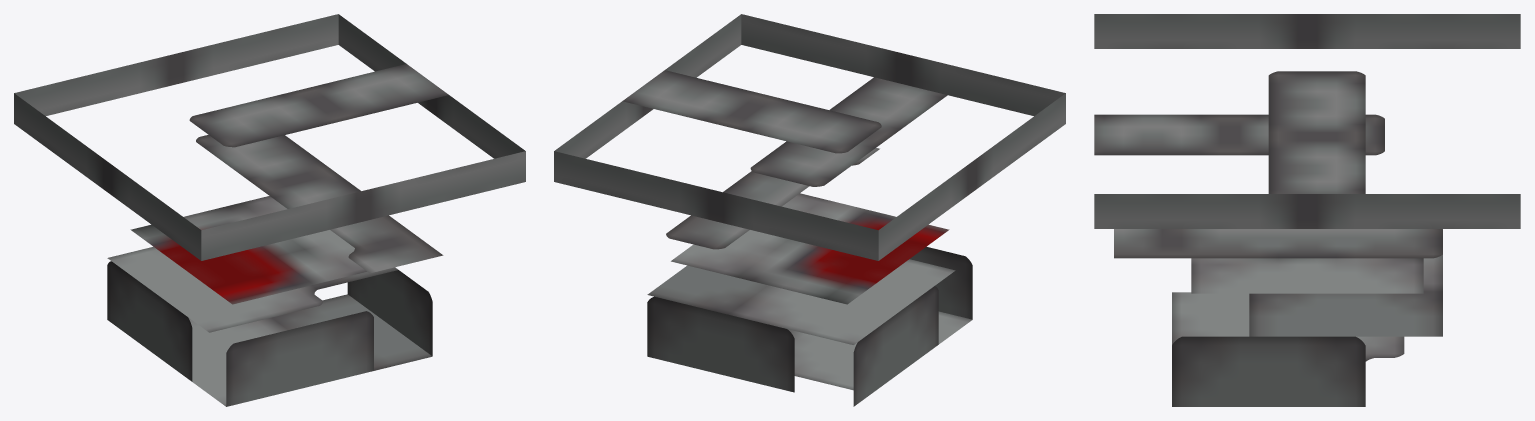
The model's file is tier_1_rocket_bottom.obj.
The picture shows the model from 3 angles, left to right: view 1: azimuth 30°, elevation 25°; view 2: azimuth 150°, elevation 25°; view 3: azimuth 270°, elevation 25°; orthographic projection. The views are drawn at different scales.
Parts seen in each view (by area): view 1: RocketBottom_Cube.013; view 2: RocketBottom_Cube.013; view 3: RocketBottom_Cube.013.
Part boxes in pixels (bbox=[...]): RocketBottom_Cube.013: bbox=[14, 14, 525, 406]; RocketBottom_Cube.013: bbox=[554, 14, 1065, 406]; RocketBottom_Cube.013: bbox=[1094, 14, 1520, 406].
Bounding box in the file's own units: 1.38 × 0.875 × 1.38.
